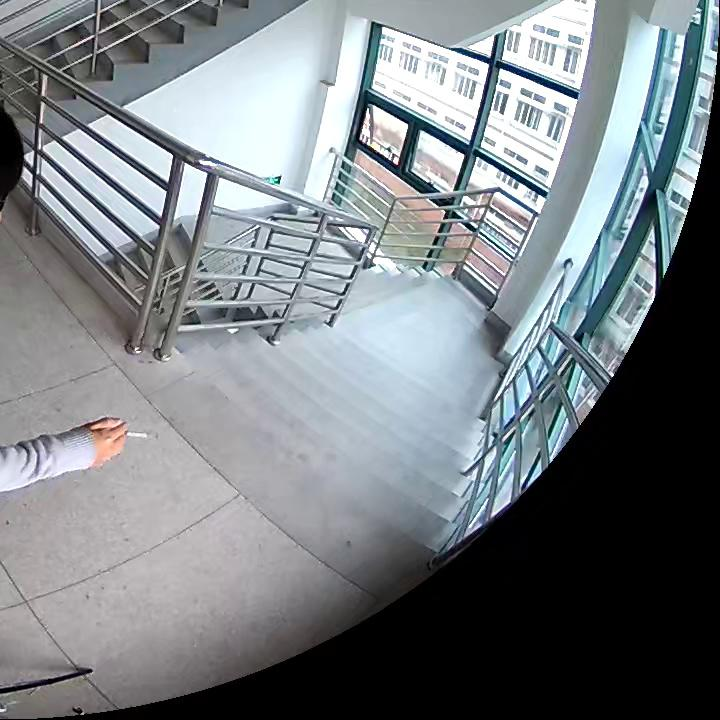handsmoke: (89, 416, 151, 467)
